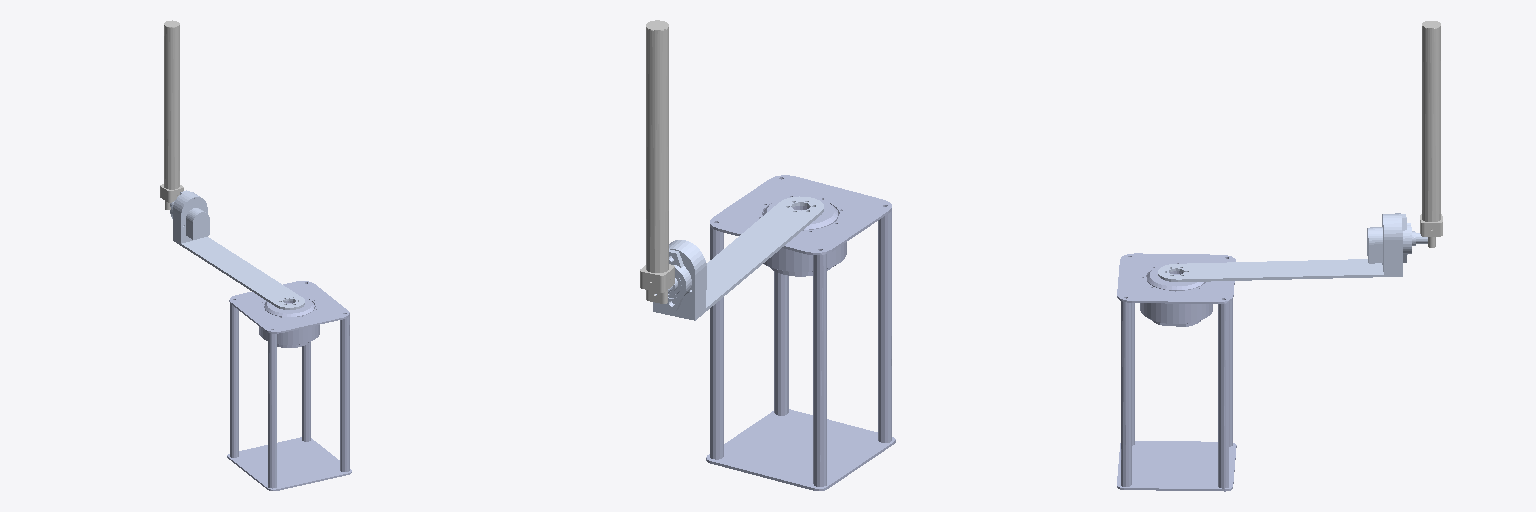
robot.urdf — pend_balc:
<?xml version="1.0" encoding="utf-8"?>
<!-- This URDF was automatically created by SolidWorks to URDF Exporter! Originally created by Stephen Brawner (brawner@gmail.com) 
     Commit Version: 1.6.0-4-g7f85cfe  Build Version: 1.6.7995.38578
     For more information, please see http://wiki.ros.org/sw_urdf_exporter -->
<robot
  name="pend_balc">
  <link
    name="base_link">
    <inertial>
      <origin
        xyz="-2.09592913111366E-05 3.50953248980184E-06 -0.106018505249408"
        rpy="0 0 0" />
      <mass
        value="1.27828364782122" />
      <inertia
        ixx="0.0130836184409299"
        ixy="-1.83858920537279E-06"
        ixz="-7.38672307685529E-07"
        iyy="0.0130344292609687"
        iyz="1.23687123986165E-07"
        izz="0.00645240733335972" />
    </inertial>
    <visual>
      <origin
        xyz="0 0 0"
        rpy="0 0 0" />
      <geometry>
        <mesh
          filename="package://pend_balc/meshes/base_link.STL" />
      </geometry>
      <material
        name="">
        <color
          rgba="0.792156862745098 0.819607843137255 0.933333333333333 1" />
      </material>
    </visual>
    <collision>
      <origin
        xyz="0 0 0"
        rpy="0 0 0" />
      <geometry>
        <mesh
          filename="package://pend_balc/meshes/base_link.STL" />
      </geometry>
    </collision>
  </link>
  <link
    name="Link1">
    <inertial>
      <origin
        xyz="0.0301520938840052 0.00574127526261402 -0.244186231517048"
        rpy="0 0 0" />
      <mass
        value="0.531173920073746" />
      <inertia
        ixx="0.00153298725990724"
        ixy="4.56827199914057E-09"
        ixz="-2.23504809922894E-07"
        iyy="0.00156021419392432"
        iyz="3.15177209459972E-05"
        izz="0.000220239352006378" />
    </inertial>
    <visual>
      <origin
        xyz="0 0 0"
        rpy="0 0 0" />
      <geometry>
        <mesh
          filename="package://pend_balc/meshes/Link1.STL" />
      </geometry>
      <material
        name="">
        <color
          rgba="0.866666666666667 0.909803921568627 1 1" />
      </material>
    </visual>
    <collision>
      <origin
        xyz="0 0 0"
        rpy="0 0 0" />
      <geometry>
        <mesh
          filename="package://pend_balc/meshes/Link1.STL" />
      </geometry>
    </collision>
  </link>
  <joint
    name="Joint1"
    type="revolute">
    <origin
      xyz="0 0 0.00575"
      rpy="1.6058 -1.5708 0" />
    <parent
      link="base_link" />
    <child
      link="Link1" />
    <axis
      xyz="1 0 0" />
    <limit
      lower="0"
      upper="0"
      effort="48"
      velocity="5.02" />
  </joint>
  <link
    name="Link2">
    <inertial>
      <origin
        xyz="7.12498963484354E-06 0.134723718011967 4.1480123155746E-11"
        rpy="0 0 0" />
      <mass
        value="0.0695633295839153" />
      <inertia
        ixx="0.000427377358124669"
        ixy="6.24770748344296E-09"
        ixz="1.68762886762594E-14"
        iyy="1.04795791793258E-05"
        iyz="-4.05416456980495E-14"
        izz="0.000427230355689081" />
    </inertial>
    <visual>
      <origin
        xyz="0 0 0"
        rpy="0 0 0" />
      <geometry>
        <mesh
          filename="package://pend_balc/meshes/Link2.STL" />
      </geometry>
      <material
        name="">
        <color
          rgba="0.847058823529412 0.847058823529412 0.847058823529412 1" />
      </material>
    </visual>
    <collision>
      <origin
        xyz="0 0 0"
        rpy="0 0 0" />
      <geometry>
        <mesh
          filename="package://pend_balc/meshes/Link2.STL" />
      </geometry>
    </collision>
  </link>
  <joint
    name="Joint2"
    type="revolute">
    <origin
      xyz="0.04625 0.0079902 -0.33991"
      rpy="-3.1416 1.5473 1.5708" />
    <parent
      link="Link1" />
    <child
      link="Link2" />
    <axis
      xyz="1 0 0" />
    <limit
      lower="0"
      upper="0"
      effort="0"
      velocity="0" />
  </joint>
</robot>

--- Render facts (derived) ---
3 views of the same robot in one strip: view 1: azimuth 30°, elevation 25°; view 2: azimuth 150°, elevation 25°; view 3: azimuth 270°, elevation 25° (orthographic).
Robot: pend_balc — 3 links, 2 joints (2 revolute); root link base_link; default pose: all joints at 0.
Visible links, largest first — view 1: base_link, Link1, Link2; view 2: base_link, Link1, Link2; view 3: base_link, Link1, Link2.
Boxes of the visible links, x1=… form: base_link: x1=227, y1=281, x2=351, y2=490; Link1: x1=170, y1=190, x2=304, y2=309; Link2: x1=160, y1=20, x2=183, y2=209; base_link: x1=706, y1=175, x2=895, y2=490; Link1: x1=653, y1=196, x2=823, y2=320; Link2: x1=640, y1=20, x2=674, y2=303; base_link: x1=1117, y1=253, x2=1236, y2=491; Link1: x1=1158, y1=213, x2=1427, y2=281; Link2: x1=1420, y1=21, x2=1442, y2=247.
Size in the robot's own frame: 0.1546 by 0.4347 by 0.641 metres.
3 mesh visuals loaded from 3 distinct referenced files (3 binary STL).
